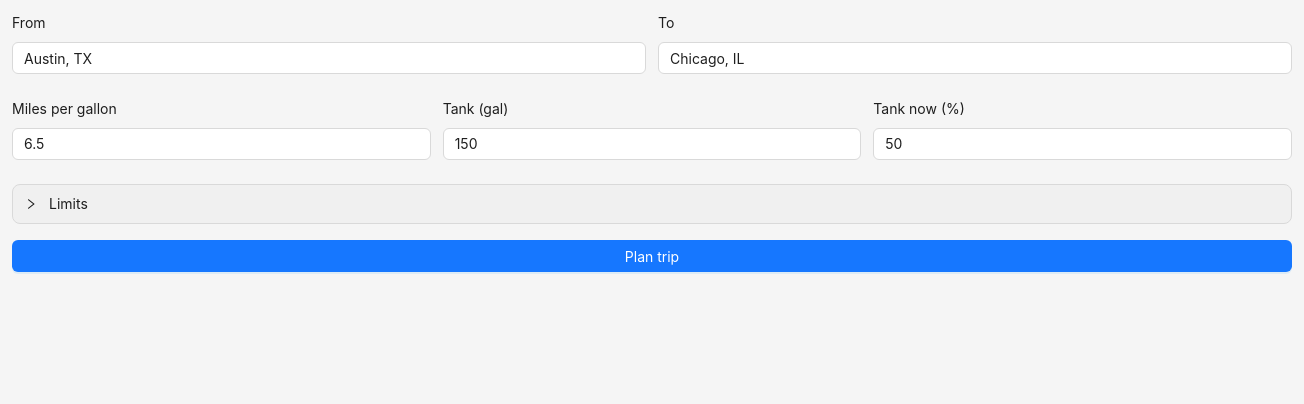
it: server field errors land on the fields and open the limits
Click the button "Plan trip". click: click(652, 256)
box: [12, 240, 1292, 272]
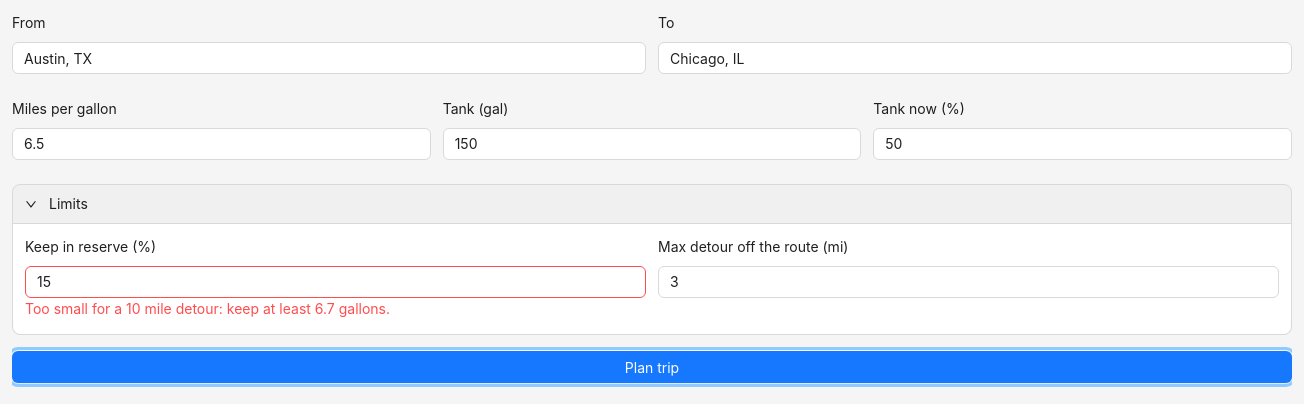
Expected: the text "Too small for a 10 mile detour: keep at least 6.7 gallons." is shown, [25, 300, 390, 317]
